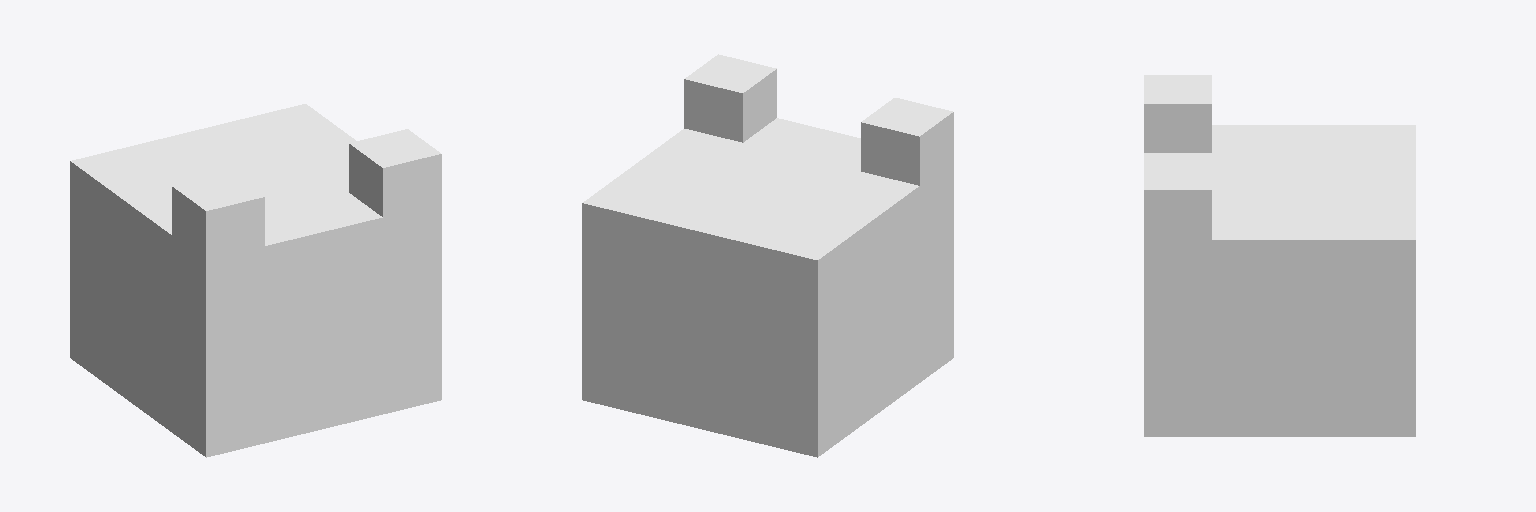
File: Panda.obj
The picture shows the model from 3 angles: view 1: azimuth 30°, elevation 25°; view 2: azimuth 150°, elevation 25°; view 3: azimuth 270°, elevation 25°; orthographic projection.
Visible parts, largest first — view 1: Panda; view 2: Panda; view 3: Panda.
Part boxes in pixels (bbox=[...]): Panda: bbox=[70, 104, 441, 457]; Panda: bbox=[582, 54, 953, 457]; Panda: bbox=[1144, 75, 1415, 436].
Bounding box in the file's own units: 40 × 40 × 40.